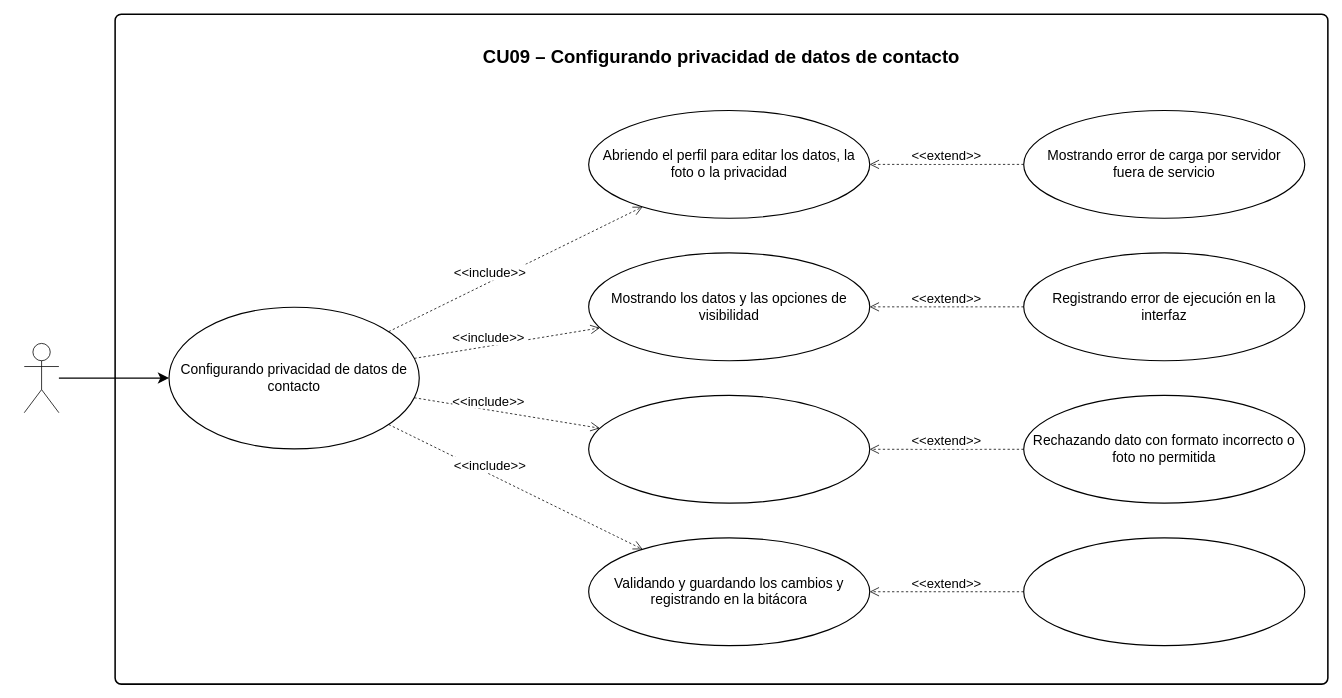
The diagram is 1342 pixels wide and 698 high, and some of its shapes have lost their labels. The centre of each missing label's shape, as x and y in pixels:
Modificando los datos o activando y desactivando las opciones: the point at 729,448
Paciente: the point at 41,378
Revirtiendo la opción por fallo al guardar: the point at 1164,591
